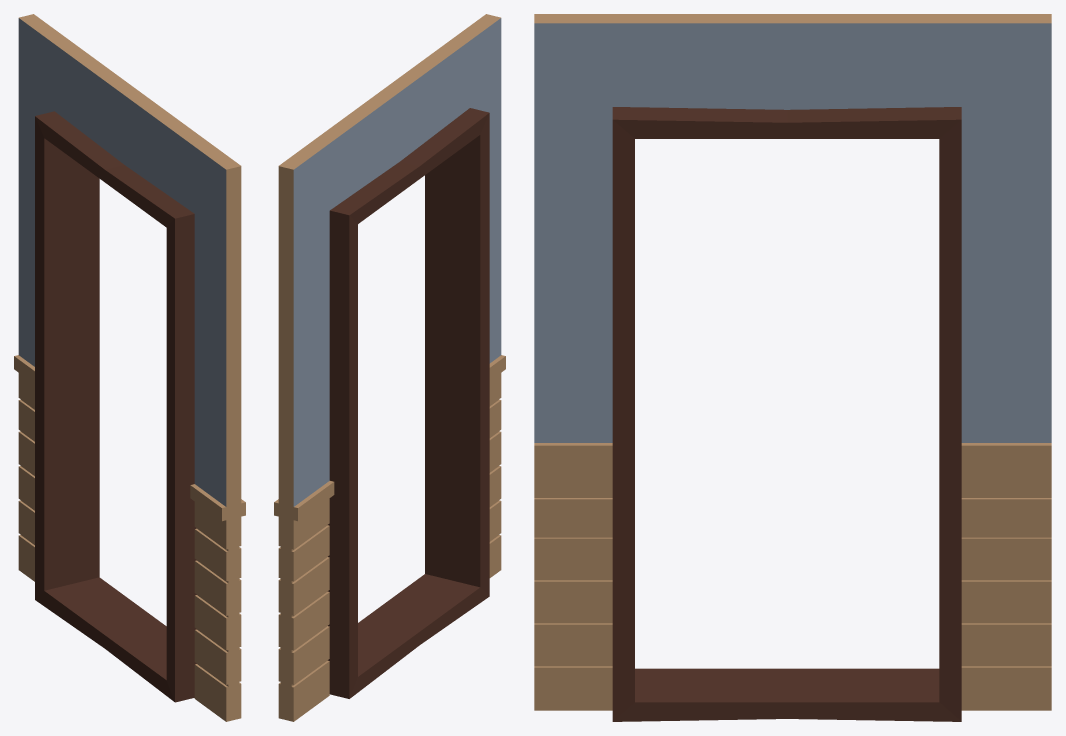
File: Int_ Door A-col.glb
3 views of the same model, side by side, from view 1: azimuth 30°, elevation 25°; view 2: azimuth 150°, elevation 25°; view 3: azimuth 270°, elevation 25° (orthographic). The views are drawn at different scales.
Visible parts, largest first — view 1: Int_ Door A-col; view 2: Int_ Door A-col; view 3: Int_ Door A-col.
Boxes of the visible parts, <box> form: Int_ Door A-col: <box>14,14,245,721</box>; Int_ Door A-col: <box>274,14,505,721</box>; Int_ Door A-col: <box>534,14,1051,721</box>.
Size of the model in its own units: 0.2339 by 2.2 by 1.5.
